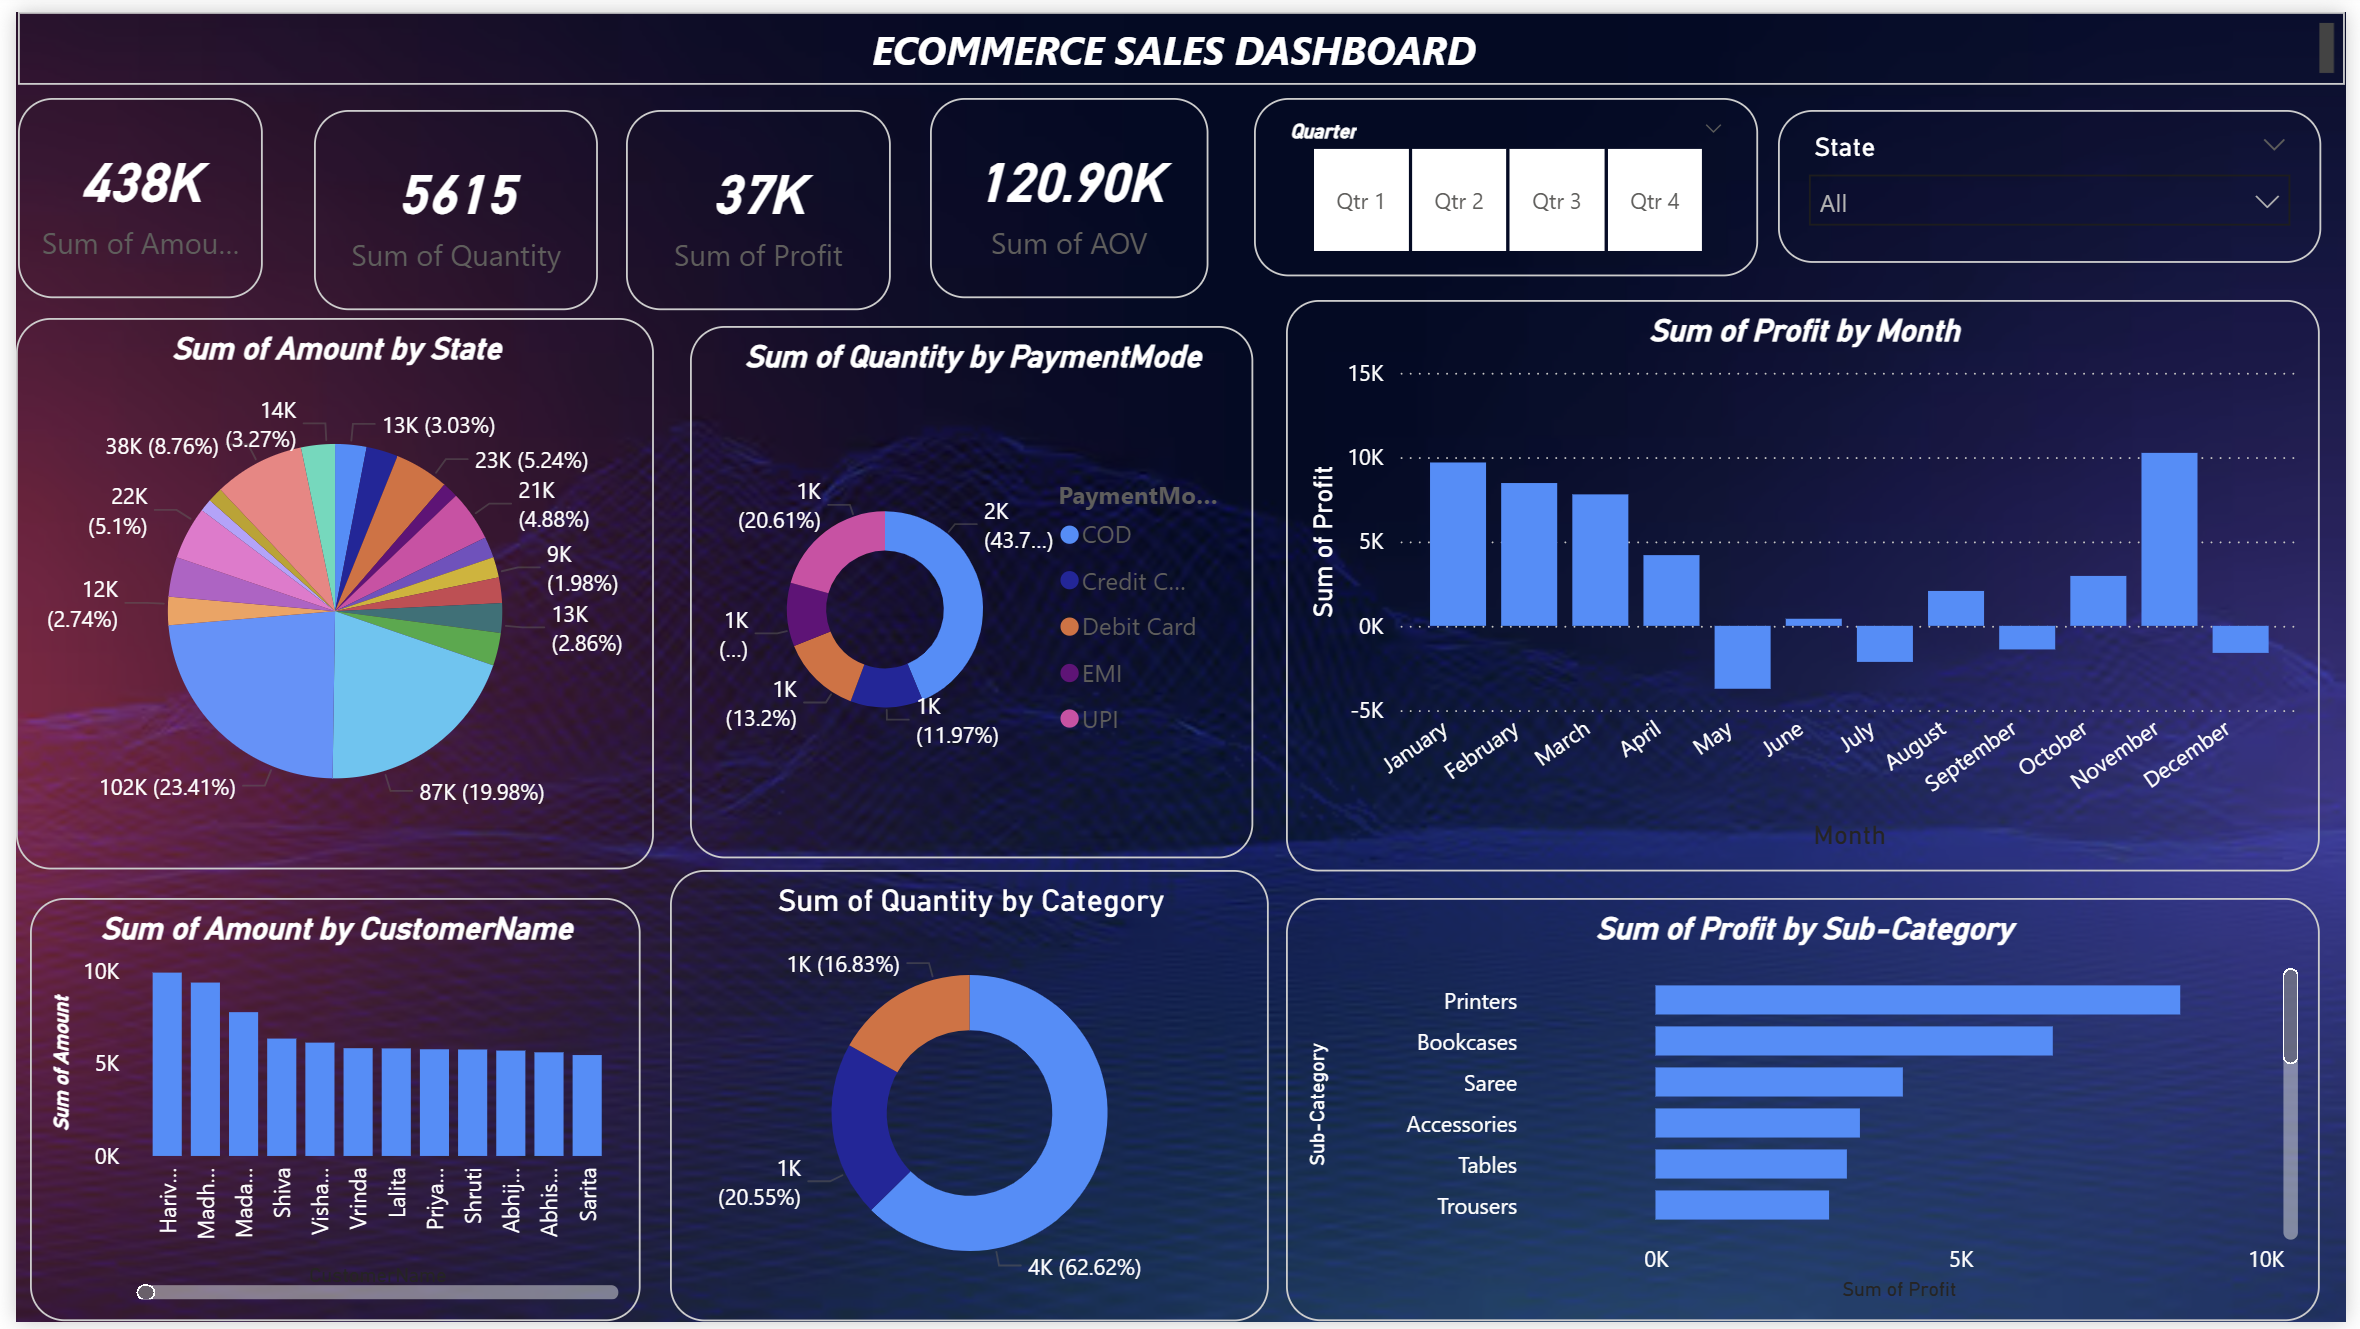

The dashboard page shown, as its layout file describes it:
{"tool":"powerbi","page":{"name":"Page 1","canvas":[1280,720],"ordinal":0},"visuals":[{"type":"card","fields":{"Values":["Sum(Details.Amount)"]},"box":[1.5,47.5,134.7,110.2],"z":0},{"type":"card","fields":{"Values":["Sum(Details.Profit)"]},"box":[335.3,53.6,145.5,110.2],"z":1000},{"type":"card","fields":{"Values":["Sum(Details.Quantity)"]},"box":[163.8,53.6,156.2,110.2],"z":2000},{"type":"card","fields":{"Values":["Sum(Details.AOV)"]},"box":[502.2,47.5,153.1,110.2],"z":3000},{"type":"slicer","fields":{"Values":["Orders (1).Order Date.Variation.Date Hierarchy.Quarter"]},"box":[679.8,47.5,277.1,98],"z":4000},{"type":"slicer","fields":{"Values":["Orders (1).State"]},"box":[967.7,53.6,298.6,84.2],"z":5000},{"type":"pieChart","fields":{"Series":["Orders (1).State"],"Y":["Sum(Details.Amount)"]},"box":[0,168.4,350.6,303.2],"z":6000},{"type":"donutChart","fields":{"Series":["Details.PaymentMode"],"Y":["Sum(Details.Quantity)"]},"box":[370.5,173,309.3,292.4],"z":7000},{"type":"donutChart","fields":{"Y":["Sum(Details.Quantity)"],"Series":["Details.Category"]},"box":[359.8,471.6,329.2,248],"z":8000},{"type":"barChart","fields":{"Category":["Details.Sub-Category"],"Y":["Sum(Details.Profit)"]},"box":[698.2,486.9,568,232.7],"z":9000},{"type":"columnChart","fields":{"Y":["Sum(Details.Profit)"],"Category":["Orders (1).Order Date.Variation.Date Hierarchy.Month"]},"box":[698.2,157.7,568,313.9],"z":10000},{"type":"columnChart","fields":{"Y":["Sum(Details.Amount)"],"Category":["Orders (1).CustomerName"]},"box":[7.7,486.9,335.3,232.7],"z":11000},{"type":"textbox","box":[1.5,0,1278.5,39.8],"z":12000}]}

Visuals, with their boxes in screenshot pixels (x1, y1, x2, y2), scaled from the page's 1280x720 canvas onto the 2360x1329 screenshot:
card - Sum(Details.Amount): detection(3, 88, 251, 291)
card - Sum(Details.Profit): detection(618, 99, 886, 302)
card - Sum(Details.Quantity): detection(302, 99, 590, 302)
card - Sum(Details.AOV): detection(926, 88, 1208, 291)
slicer - Orders (1).Order Date.Variation.Date Hierarchy.Quarter: detection(1253, 88, 1764, 269)
slicer - Orders (1).State: detection(1784, 99, 2335, 254)
pieChart - Orders (1).State x Sum(Details.Amount): detection(0, 311, 646, 870)
donutChart - Details.PaymentMode x Sum(Details.Quantity): detection(683, 319, 1253, 859)
donutChart - Sum(Details.Quantity) x Details.Category: detection(663, 870, 1270, 1328)
barChart - Details.Sub-Category x Sum(Details.Profit): detection(1287, 899, 2335, 1328)
columnChart - Sum(Details.Profit) x Orders (1).Order Date.Variation.Date Hierarchy.Month: detection(1287, 291, 2335, 870)
columnChart - Sum(Details.Amount) x Orders (1).CustomerName: detection(14, 899, 632, 1328)
textbox: detection(3, 0, 2359, 73)
